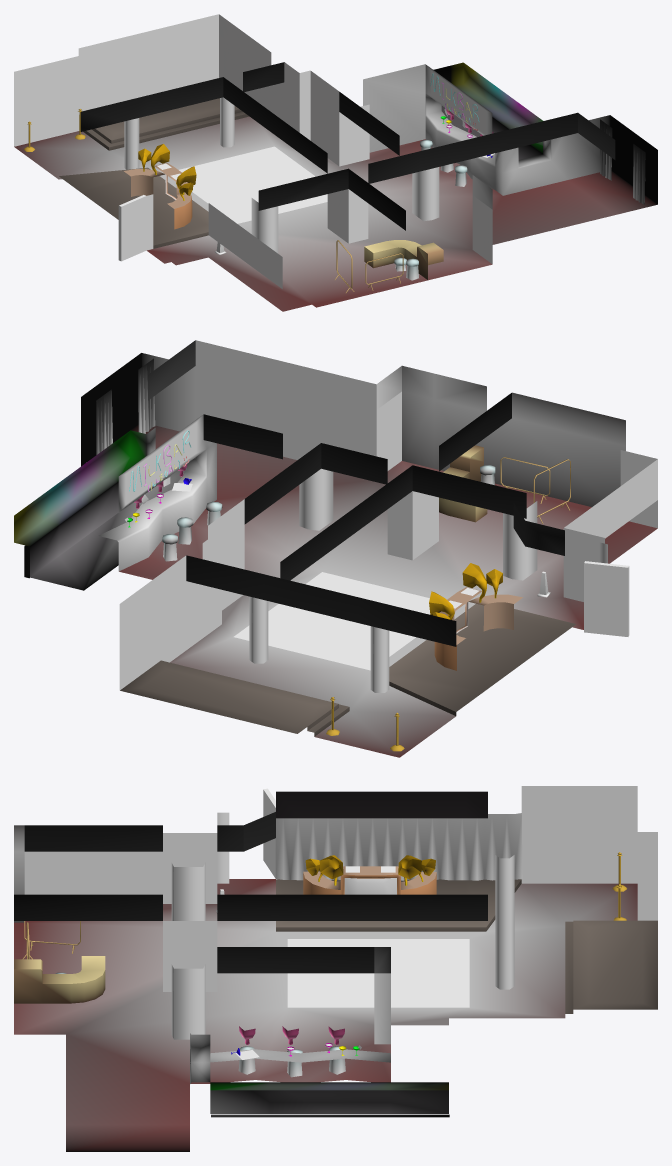
Rendered from MainBarArea.glb.
3 renders of one model, top to bottom at view 1: azimuth 30°, elevation 25°; view 2: azimuth 150°, elevation 25°; view 3: azimuth 270°, elevation 25°, orthographic. The views are drawn at different scales.
Visible parts, largest first — view 1: ROOM.016, ROOM, ROOM.020, ROOM.007, ROOM.018, ROOM.019, ROOM.008, ROOM.012, ROOM.017, ROOM.013, ROOM.026, ROOM.022 (+12 smaller); view 2: ROOM.016, ROOM, ROOM.020, ROOM.014, ROOM.015, ROOM.018, ROOM.012, ROOM.017, ROOM.013, ROOM.010, ROOM.026, ROOM.022 (+9 smaller); view 3: ROOM.016, ROOM, STAGECURTAIN, ROOM.009, ROOM.020, ROOM.013, ROOM.017, ROOM.012, Cube, ROOM.022, DJTABLE, ROOM.021 (+9 smaller).
Part boxes in pixels (box(x1,y1,x2,y2)): ROOM.016: box(14, 116, 657, 311); ROOM: box(80, 62, 615, 230); ROOM.020: box(425, 62, 610, 195); ROOM.007: box(78, 14, 218, 109); ROOM.018: box(219, 14, 339, 165); ROOM.019: box(339, 64, 425, 166); ROOM.008: box(14, 54, 86, 146); ROOM.012: box(59, 167, 208, 248); ROOM.017: box(83, 98, 249, 150); ROOM.013: box(208, 203, 282, 288); ROOM.026: box(610, 115, 657, 204); ROOM.022: box(327, 189, 368, 243); ROOM.016: box(81, 424, 657, 757); ROOM: box(148, 340, 564, 646); ROOM.020: box(14, 414, 216, 590); ROOM.014: box(376, 365, 625, 506); ROOM.015: box(141, 340, 376, 459); ROOM.018: box(119, 499, 244, 690); ROOM.012: box(389, 603, 575, 715); ROOM.017: box(120, 660, 349, 736); ROOM.013: box(564, 450, 657, 538); ROOM.010: box(584, 561, 629, 636); ROOM.026: box(81, 353, 141, 465); ROOM.022: box(387, 491, 438, 560); ROOM.016: box(14, 879, 637, 1151); ROOM: box(14, 791, 487, 973); STAGECURTAIN: box(275, 813, 522, 880); ROOM.009: box(521, 786, 637, 883); ROOM.020: box(190, 1033, 449, 1117); ROOM.013: box(24, 833, 217, 903); ROOM.017: box(565, 920, 657, 1013); ROOM.012: box(276, 879, 521, 931); Cube: box(14, 956, 105, 1003); ROOM.022: box(163, 921, 217, 991); DJTABLE: box(303, 866, 436, 894); ROOM.021: box(171, 964, 205, 1039).
Size of the model in its own units: 24.13 by 3.77 by 22.48.
